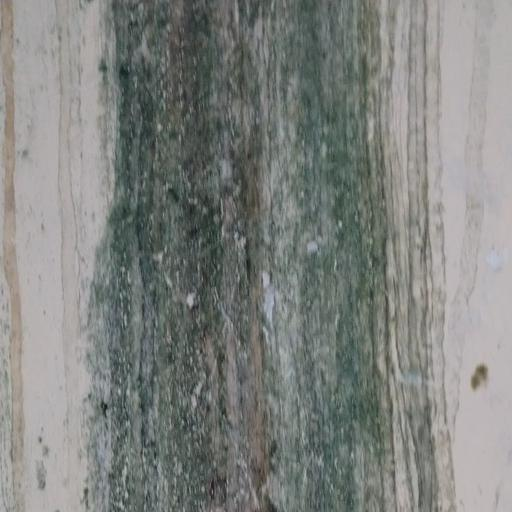algae: (74, 6, 476, 512)
